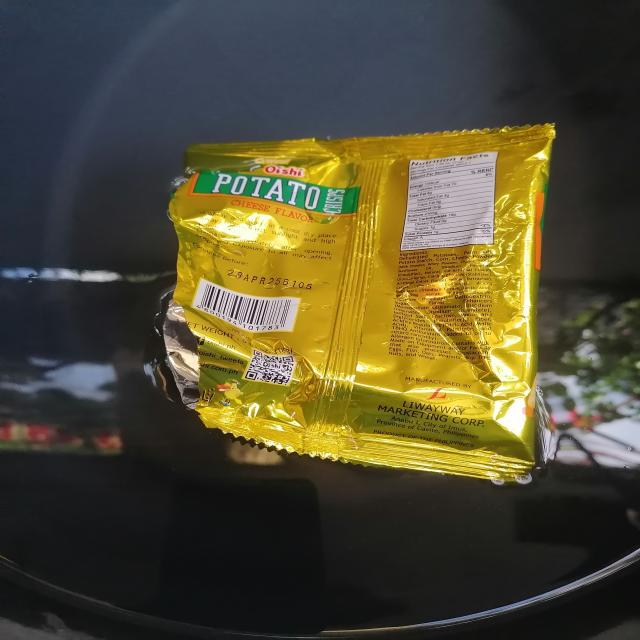Plastic Wrapper: (169, 125, 554, 482)
